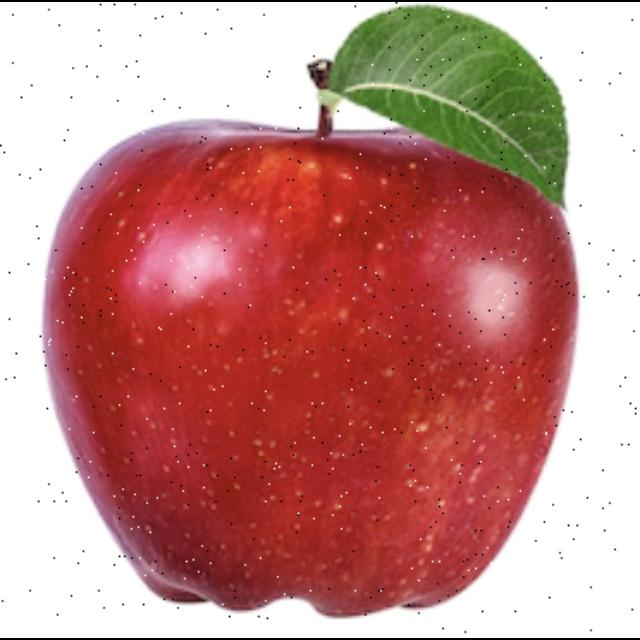Apel Segar: (29, 85, 584, 637)
